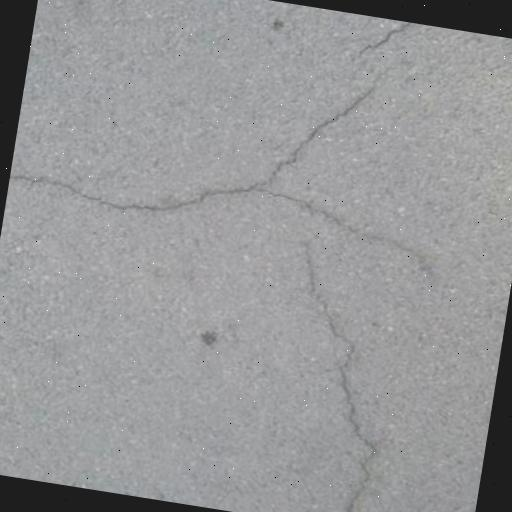spalling: (11, 84, 390, 226), (289, 238, 393, 512), (263, 184, 459, 291), (341, 19, 427, 69)
